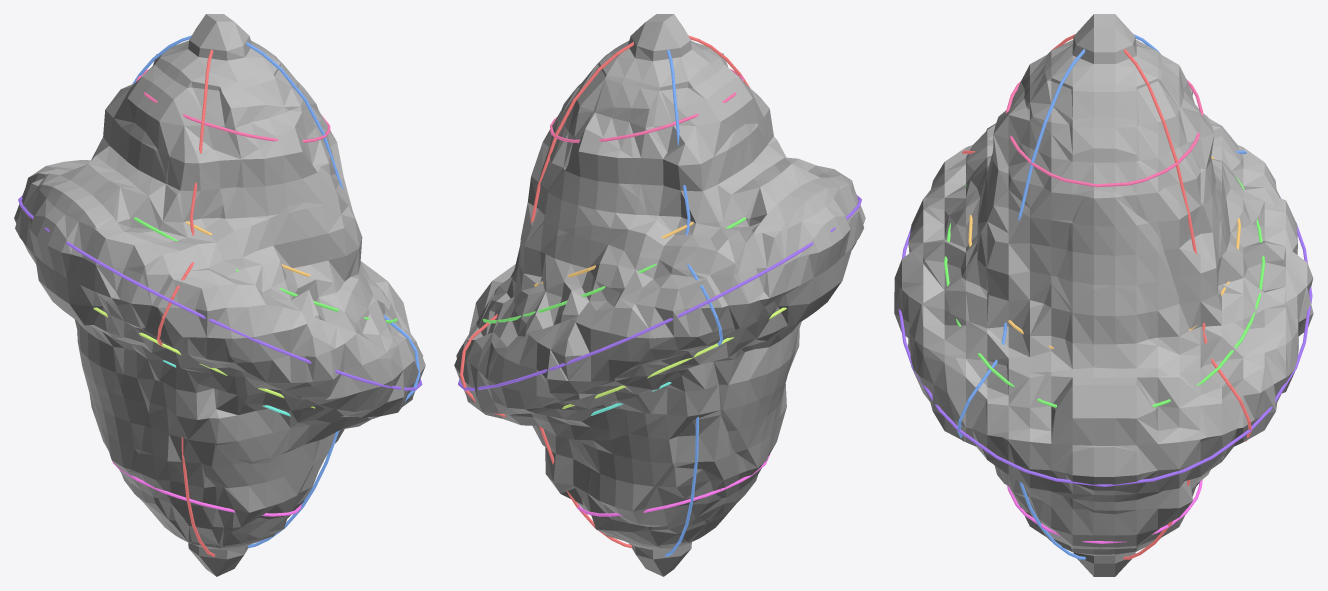
File: flowrep_ellipsetorus.gltf
3 renders of one model, left to right at view 1: azimuth 30°, elevation 25°; view 2: azimuth 150°, elevation 25°; view 3: azimuth 270°, elevation 25°, orthographic.
Bounding box in the file's own units: 0.5078 × 0.7584 × 0.5165.
